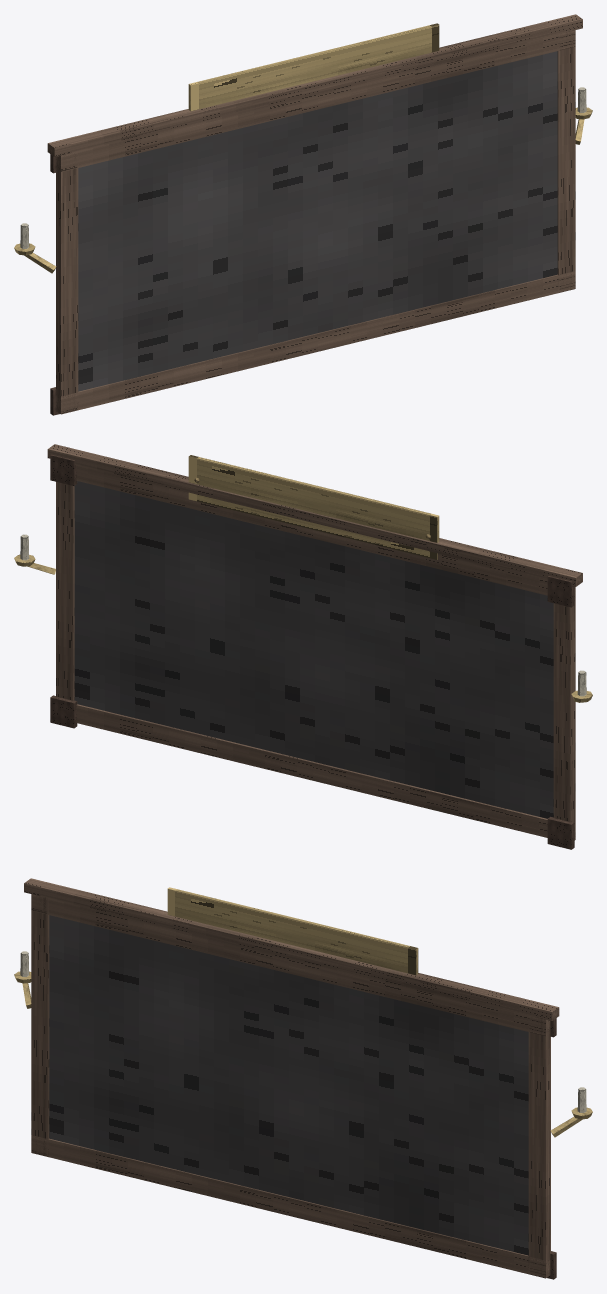
The model's file is prop_ready_board.gltf.
The picture shows the model from 3 angles, top to bottom: view 1: azimuth 30°, elevation 25°; view 2: azimuth 150°, elevation 25°; view 3: azimuth 330°, elevation 25°; orthographic projection.
Parts seen in each view (by area): view 1: slate, frame, brass; view 2: slate, frame, brass; view 3: slate, frame, brass.
Boxes of the visible parts, x1,y1,x2,y2 form: slate: [78, 51, 557, 391]; frame: [47, 14, 582, 415]; brass: [14, 23, 592, 273]; slate: [74, 481, 553, 818]; frame: [47, 444, 582, 849]; brass: [14, 455, 592, 702]; slate: [49, 915, 528, 1255]; frame: [24, 878, 559, 1279]; brass: [14, 887, 592, 1137].
Size of the model in its own units: 6.7 by 3.32 by 0.4116.
Materials: 3 (3 with a texture image).
